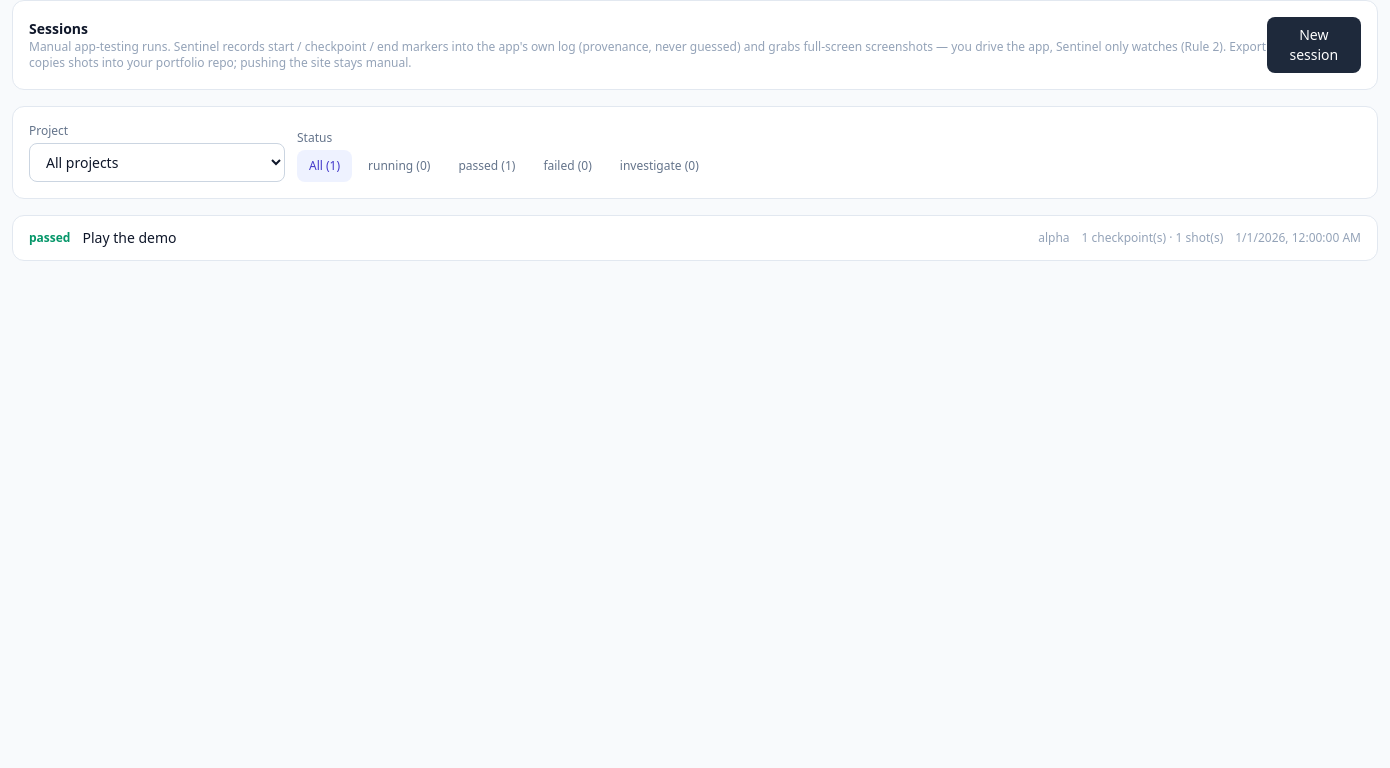
Scenario: Sessions › expands a session to show checkpoints and log slice
Click the text "Play the demo".
click(130, 238)  # box [82, 228, 176, 247]
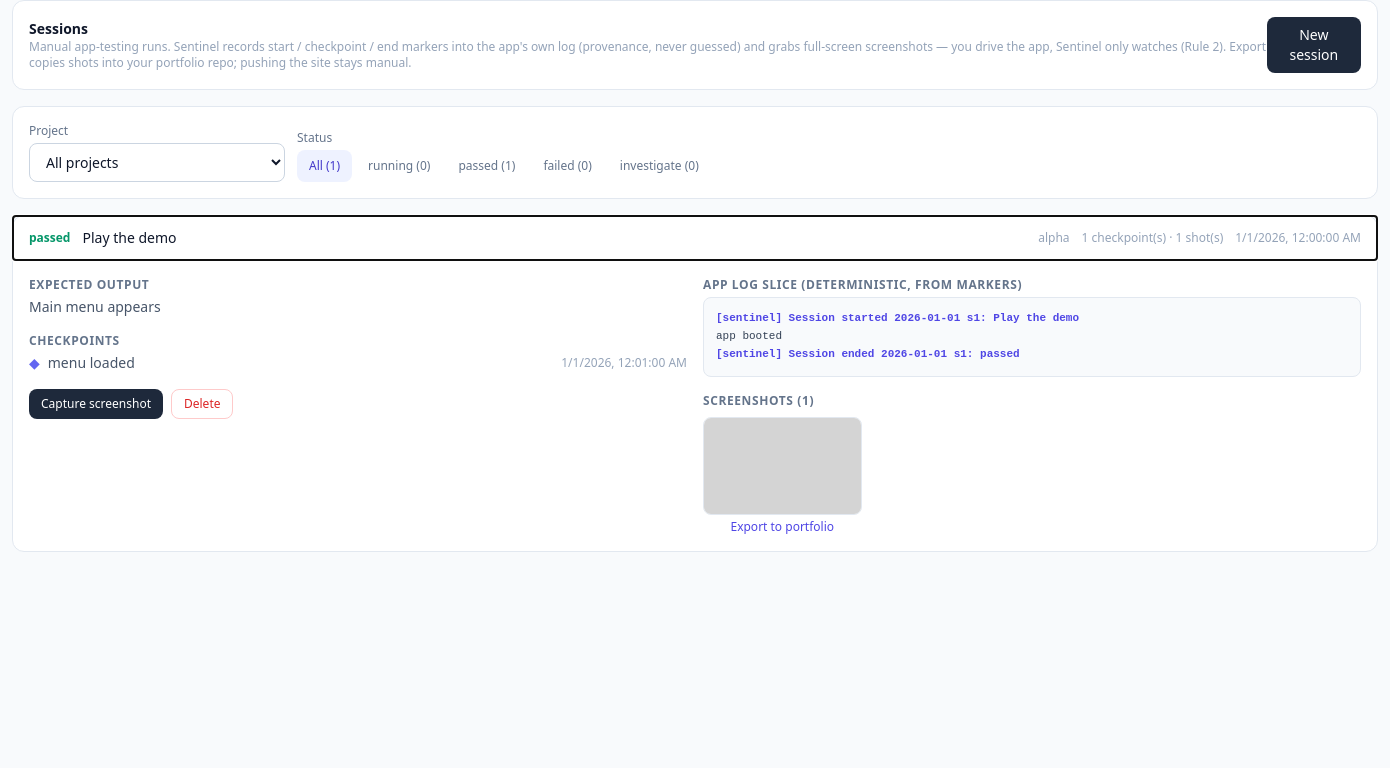
Now the text "menu loaded" is shown, box [48, 353, 135, 372]
Now the text "app booted" is shown, box [716, 330, 782, 342]
Now the text "Main menu appears" is shown, box [29, 297, 161, 316]
